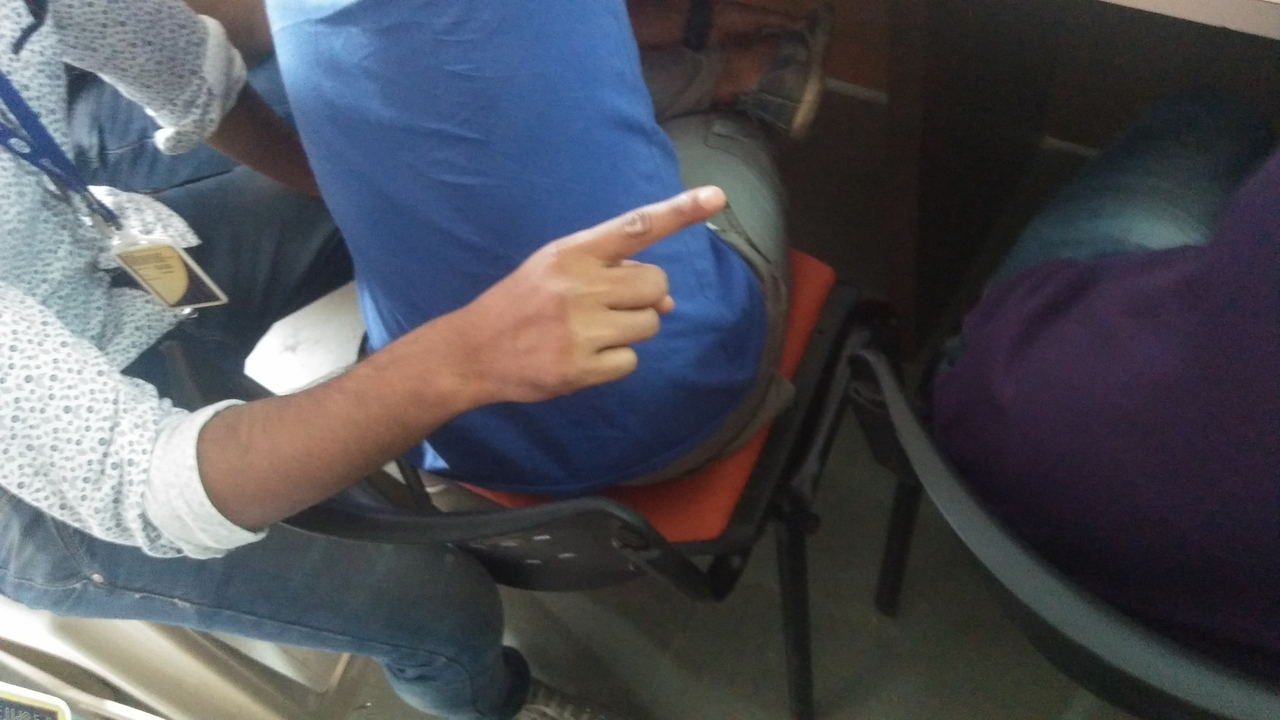fingertip: (650, 174, 722, 226)
